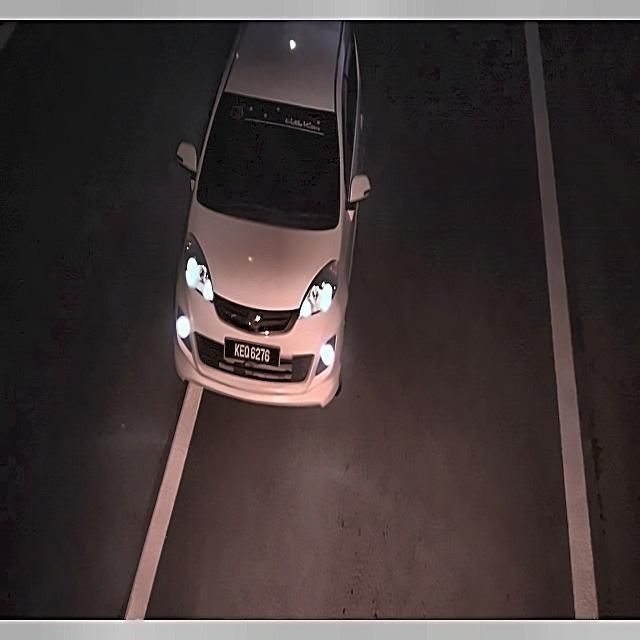car: (224, 332, 282, 375)
